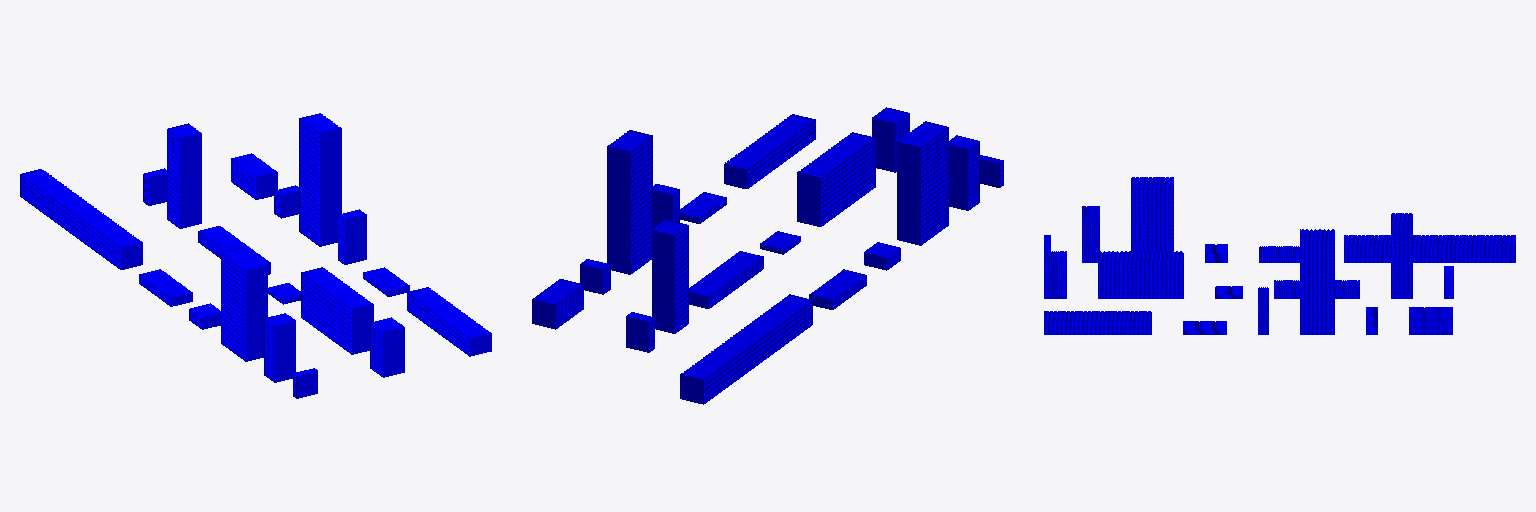
The robot description file, URDF, robot "pipe_warehouse":
<?xml version="1.0" ?>
<!-- =================================================================================== -->
<!-- |    This document was autogenerated by xacro from src/pipe_description/urdf/warehouse.urdf.xacro | -->
<!-- |    EDITING THIS FILE BY HAND IS NOT RECOMMENDED                                 | -->
<!-- =================================================================================== -->
<robot name="pipe_warehouse">
  <!-- Load macros, links, and joints -->
  <material name="blue">
    <color rgba="0 0 1 1"/>
  </material>
  <link name="base_link"/>
  <link name="5x20__05m">
    <visual>
      <origin rpy="1.5708 0 1.5708" xyz="-4.5250 0 0.0"/>
      <geometry>
        <mesh filename="package://pipe_description/meshes/5x20__0.5mStl.STL" scale="0.001 0.001 0.001"/>
      </geometry>
      <material name="blue"/>
    </visual>
    <collision>
      <origin xyz="5.0329 1.4943 5"/>
      <!-- rpy="1.5708 0 1.5708"/-->
      <geometry>
        <box size="10 2.9885 10"/>
      </geometry>
    </collision>
    <inertial>
      <mass value="1.0"/>
      <origin rpy="1.5708 0 1.5708" xyz="-4.5250 0 0.0"/>
      <inertia ixx="0.1" ixy="0.0" ixz="0.0" iyy="0.1" iyz="0.0" izz="0.1"/>
    </inertial>
  </link>
  <link name="8x25_1m">
    <visual>
      <origin rpy="1.5708 0 1.5708" xyz="0.0 0.0 0.0"/>
      <geometry>
        <mesh filename="package://pipe_description/meshes/8x25__1mStl.STL" scale="0.001 0.001 0.001"/>
      </geometry>
      <material name="blue"/>
    </visual>
    <collision>
      <origin xyz="5.0 4.0 12.5"/>
      <!-- rpy="1.5708 0 1.5708"/-->
      <geometry>
        <box size="10 8 25"/>
      </geometry>
    </collision>
    <inertial>
      <mass value="1.0"/>
      <origin rpy="1.5708 0 1.5708" xyz="0.0 0.0 0.0"/>
      <inertia ixx="0.1" ixy="0.0" ixz="0.0" iyy="0.1" iyz="0.0" izz="0.1"/>
    </inertial>
  </link>
  <link name="10x20__2m">
    <visual>
      <origin rpy="1.5708 0 1.5708" xyz="0.0 0.0 0.0"/>
      <geometry>
        <mesh filename="package://pipe_description/meshes/10x20__2mStl.STL" scale="0.001 0.001 0.001"/>
      </geometry>
      <material name="blue"/>
    </visual>
    <collision>
      <origin xyz="5.0 10 20"/>
      <!-- rpy="1.5708 0 1.5708"/-->
      <geometry>
        <box size="10 20 40"/>
      </geometry>
    </collision>
    <inertial>
      <mass value="1.0"/>
      <origin rpy="1.5708 0 1.5708" xyz="0.0 0.0 0.0"/>
      <inertia ixx="0.1" ixy="0.0" ixz="0.0" iyy="0.1" iyz="0.0" izz="0.1"/>
    </inertial>
  </link>
  <link name="20x10__05m">
    <visual>
      <origin rpy="1.5708 0 1.5708" xyz="0.0 0.0 0.0"/>
      <geometry>
        <mesh filename="package://pipe_description/meshes/20x10__0.5mStl.STL" scale="0.001 0.001 0.001"/>
      </geometry>
      <material name="blue"/>
    </visual>
    <collision>
      <origin xyz="5.0 5.2443 2.5"/>
      <!-- rpy="1.5708 0 1.5708"/-->
      <geometry>
        <box size="10 10.4885 5"/>
      </geometry>
    </collision>
    <inertial>
      <mass value="1.0"/>
      <origin rpy="1.5708 0 1.5708" xyz="0.0 0.0 0.0"/>
      <inertia ixx="0.1" ixy="0.0" ixz="0.0" iyy="0.1" iyz="0.0" izz="0.1"/>
    </inertial>
  </link>
  <link name="25x4__1m">
    <visual>
      <origin rpy="1.5708 0 1.5708" xyz="0.0 0 0.0"/>
      <geometry>
        <mesh filename="package://pipe_description/meshes/25x4__1mStl.STL" scale="0.001 0.001 0.001"/>
      </geometry>
      <material name="blue"/>
    </visual>
    <collision>
      <origin xyz="5.0 12.5 2.0"/>
      <!-- rpy="1.5708 0 1.5708"/-->
      <geometry>
        <box size="10 25 4"/>
      </geometry>
    </collision>
    <inertial>
      <mass value="1.0"/>
      <origin rpy="1.5708 0 1.5708" xyz="0.0 0 0.0"/>
      <inertia ixx="0.1" ixy="0.0" ixz="0.0" iyy="0.1" iyz="0.0" izz="0.1"/>
    </inertial>
  </link>
  <link name="40x5__2m">
    <visual>
      <origin rpy="1.5708 0 1.5708" xyz="0.0 0 0.0"/>
      <geometry>
        <mesh filename="package://pipe_description/meshes/40x5__2mStl.STL" scale="0.001 0.001 0.001"/>
      </geometry>
      <material name="blue"/>
    </visual>
    <collision>
      <origin xyz="5.0 40 5"/>
      <!-- rpy="1.5708 0 1.5708"/-->
      <geometry>
        <box size="10 80 10"/>
      </geometry>
    </collision>
    <inertial>
      <mass value="1.0"/>
      <origin rpy="1.5708 0 1.5708" xyz="0.0 0 0.0"/>
      <inertia ixx="0.1" ixy="0.0" ixz="0.0" iyy="0.1" iyz="0.0" izz="0.1"/>
    </inertial>
  </link>
  <link name="10x20__1m">
    <visual>
      <origin rpy="1.5708 0 1.5708" xyz="0.0 0 0.0"/>
      <geometry>
        <mesh filename="package://pipe_description/meshes/10x20__1mStl.STL" scale="0.001 0.001 0.001"/>
      </geometry>
      <material name="blue"/>
    </visual>
    <collision>
      <origin xyz="5.0 5 10"/>
      <!-- rpy="1.5708 0 1.5708"/-->
      <geometry>
        <box size="10 10 20"/>
      </geometry>
    </collision>
    <inertial>
      <mass value="1.0"/>
      <origin rpy="1.5708 0 1.5708" xyz="0.0 0 0.0"/>
      <inertia ixx="0.1" ixy="0.0" ixz="0.0" iyy="0.1" iyz="0.0" izz="0.1"/>
    </inertial>
  </link>
  <link name="20x10__2m">
    <visual>
      <origin rpy="1.5708 0 1.5708" xyz="0.0 0 0.0"/>
      <geometry>
        <mesh filename="package://pipe_description/meshes/20x10__2mStl.STL" scale="0.001 0.001 0.001"/>
      </geometry>
      <material name="blue"/>
    </visual>
    <collision>
      <origin xyz="5.0 20 10"/>
      <!-- rpy="1.5708 0 1.5708"/-->
      <geometry>
        <box size="10 40 20"/>
      </geometry>
    </collision>
    <inertial>
      <mass value="1.0"/>
      <origin rpy="1.5708 0 1.5708" xyz="0.0 0 0.0"/>
      <inertia ixx="0.1" ixy="0.0" ixz="0.0" iyy="0.1" iyz="0.0" izz="0.1"/>
    </inertial>
  </link>
  <link name="25x4__0.5m">
    <visual>
      <origin rpy="1.5708 0 1.5708" xyz="0.0 0 0.0"/>
      <geometry>
        <mesh filename="package://pipe_description/meshes/25x4__0.5mStl.STL" scale="0.001 0.001 0.001"/>
      </geometry>
      <material name="blue"/>
    </visual>
    <collision>
      <origin xyz="5.0 6.4943 1"/>
      <!-- rpy="1.5708 0 1.5708"/-->
      <geometry>
        <box size="10 12.9885 2"/>
      </geometry>
    </collision>
    <inertial>
      <mass value="1.0"/>
      <origin rpy="1.5708 0 1.5708" xyz="0.0 0 0.0"/>
      <inertia ixx="0.1" ixy="0.0" ixz="0.0" iyy="0.1" iyz="0.0" izz="0.1"/>
    </inertial>
  </link>
  <link name="40x5__1m">
    <visual>
      <origin rpy="1.5708 0 1.5708" xyz="0.0 0 0.0"/>
      <geometry>
        <mesh filename="package://pipe_description/meshes/40x5__1mStl.STL" scale="0.001 0.001 0.001"/>
      </geometry>
      <material name="blue"/>
    </visual>
    <collision>
      <origin xyz="5.0 20 2.5"/>
      <!-- rpy="1.5708 0 1.5708"/-->
      <geometry>
        <box size="10 40 5"/>
      </geometry>
    </collision>
    <inertial>
      <mass value="1.0"/>
      <origin rpy="1.5708 0 1.5708" xyz="0.0 0 0.0"/>
      <inertia ixx="0.1" ixy="0.0" ixz="0.0" iyy="0.1" iyz="0.0" izz="0.1"/>
    </inertial>
  </link>
  <link name="5x20__2m">
    <visual>
      <origin rpy="1.5708 0 1.5708" xyz="0.0 0 0.0"/>
      <geometry>
        <mesh filename="package://pipe_description/meshes/5x20__2mStl.STL" scale="0.001 0.001 0.001"/>
      </geometry>
      <material name="blue"/>
    </visual>
    <collision>
      <origin xyz="5.0 5 20"/>
      <!-- rpy="1.5708 0 1.5708"/-->
      <geometry>
        <box size="10 10 40"/>
      </geometry>
    </collision>
    <inertial>
      <mass value="1.0"/>
      <origin rpy="1.5708 0 1.5708" xyz="0.0 0 0.0"/>
      <inertia ixx="0.1" ixy="0.0" ixz="0.0" iyy="0.1" iyz="0.0" izz="0.1"/>
    </inertial>
  </link>
  <link name="8x25__0.5m">
    <visual>
      <origin rpy="1.5708 0 1.5708" xyz="0.0 0 0.0"/>
      <geometry>
        <mesh filename="package://pipe_description/meshes/8x25__0.5mStl.STL" scale="0.001 0.001 0.001"/>
      </geometry>
      <material name="blue"/>
    </visual>
    <collision>
      <origin xyz="5.0 2.2443 6.25"/>
      <!-- rpy="1.5708 0 1.5708"/-->
      <geometry>
        <box size="10 4.4885 12.5"/>
      </geometry>
    </collision>
    <inertial>
      <mass value="1.0"/>
      <origin rpy="1.5708 0 1.5708" xyz="0.0 0 0.0"/>
      <inertia ixx="0.1" ixy="0.0" ixz="0.0" iyy="0.1" iyz="0.0" izz="0.1"/>
    </inertial>
  </link>
  <link name="25x4__2m">
    <visual>
      <origin rpy="1.5708 0 1.5708" xyz="0.0 0 0.0"/>
      <geometry>
        <mesh filename="package://pipe_description/meshes/25x4__2mStl.STL" scale="0.001 0.001 0.001"/>
      </geometry>
      <material name="blue"/>
    </visual>
    <collision>
      <origin xyz="5.0 25.0 4"/>
      <!-- rpy="1.5708 0 1.5708"/-->
      <geometry>
        <box size="10 50 8"/>
      </geometry>
    </collision>
    <inertial>
      <mass value="1.0"/>
      <origin rpy="1.5708 0 1.5708" xyz="0.0 0 0.0"/>
      <inertia ixx="0.1" ixy="0.0" ixz="0.0" iyy="0.1" iyz="0.0" izz="0.1"/>
    </inertial>
  </link>
  <link name="40x5__0.5m">
    <visual>
      <origin rpy="1.5708 0 1.5708" xyz="0.0 0 0.0"/>
      <geometry>
        <mesh filename="package://pipe_description/meshes/40x5__0.5mStl.STL" scale="0.001 0.001 0.001"/>
      </geometry>
      <material name="blue"/>
    </visual>
    <collision>
      <origin xyz="5.0 10.2443 1.25"/>
      <!-- rpy="1.5708 0 1.5708"/-->
      <geometry>
        <box size="10 20.4885 2.5"/>
      </geometry>
    </collision>
    <inertial>
      <mass value="1.0"/>
      <origin rpy="1.5708 0 1.5708" xyz="0.0 0 0.0"/>
      <inertia ixx="0.1" ixy="0.0" ixz="0.0" iyy="0.1" iyz="0.0" izz="0.1"/>
    </inertial>
  </link>
  <link name="5x20__1m">
    <visual>
      <origin rpy="1.5708 0 1.5708" xyz="0.0 0 0.0"/>
      <geometry>
        <mesh filename="package://pipe_description/meshes/5x20__1mStl.STL" scale="0.001 0.001 0.001"/>
      </geometry>
      <material name="blue"/>
    </visual>
    <collision>
      <origin xyz="5.0 2.5 10"/>
      <!-- rpy="1.5708 0 1.5708"/-->
      <geometry>
        <box size="10 5 20"/>
      </geometry>
    </collision>
    <inertial>
      <mass value="1.0"/>
      <origin rpy="1.5708 0 1.5708" xyz="0.0 0 0.0"/>
      <inertia ixx="0.1" ixy="0.0" ixz="0.0" iyy="0.1" iyz="0.0" izz="0.1"/>
    </inertial>
  </link>
  <link name="8x25__2m">
    <visual>
      <origin rpy="1.5708 0 1.5708" xyz="0.0 0 0.0"/>
      <geometry>
        <mesh filename="package://pipe_description/meshes/8x25__2mStl.STL" scale="0.001 0.001 0.001"/>
      </geometry>
      <material name="blue"/>
    </visual>
    <collision>
      <origin xyz="5.0 8 25"/>
      <!-- rpy="1.5708 0 1.5708"/-->
      <geometry>
        <box size="10 16 50"/>
      </geometry>
    </collision>
    <inertial>
      <mass value="1.0"/>
      <origin rpy="1.5708 0 1.5708" xyz="0.0 0 0.0"/>
      <inertia ixx="0.1" ixy="0.0" ixz="0.0" iyy="0.1" iyz="0.0" izz="0.1"/>
    </inertial>
  </link>
  <link name="10x20__0.5m">
    <visual>
      <origin rpy="1.5708 0 1.5708" xyz="0.0 0 0.0"/>
      <geometry>
        <mesh filename="package://pipe_description/meshes/10x20__0.5mStl.STL" scale="0.001 0.001 0.001"/>
      </geometry>
      <material name="blue"/>
    </visual>
    <collision>
      <origin xyz="5.0 2.7443 5"/>
      <!-- rpy="1.5708 0 1.5708"/-->
      <geometry>
        <box size="10 5.4885 10"/>
      </geometry>
    </collision>
    <inertial>
      <mass value="1.0"/>
      <origin rpy="1.5708 0 1.5708" xyz="0.0 0 0.0"/>
      <inertia ixx="0.1" ixy="0.0" ixz="0.0" iyy="0.1" iyz="0.0" izz="0.1"/>
    </inertial>
  </link>
  <link name="20x10__1m">
    <visual>
      <origin rpy="1.5708 0 1.5708" xyz="0.0 0 0.0"/>
      <geometry>
        <mesh filename="package://pipe_description/meshes/20x10__1mStl.STL" scale="0.001 0.001 0.001"/>
      </geometry>
      <material name="blue"/>
    </visual>
    <collision>
      <origin xyz="5.0 10 5"/>
      <!-- rpy="1.5708 0 1.5708"/-->
      <geometry>
        <box size="10 20 10"/>
      </geometry>
    </collision>
    <inertial>
      <mass value="1.0"/>
      <origin rpy="1.5708 0 1.5708" xyz="0.0 0 0.0"/>
      <inertia ixx="0.1" ixy="0.0" ixz="0.0" iyy="0.1" iyz="0.0" izz="0.1"/>
    </inertial>
  </link>
  <!-- 5x20__05m	8x25_1m	10x20__2m	20x10__05m	25x4__1m	40x5__2m -->
  <joint name="base_link_to_5x20__05m" type="fixed">
    <origin rpy="0 0 0" xyz="0.0 0.0 0.0"/>
    <parent link="base_link"/>
    <child link="5x20__05m"/>
  </joint>
  <joint name="5x20__05m_to_8x25_1m" type="fixed">
    <origin rpy="0 0 0" xyz="0.0 17.5 0.0"/>
    <parent link="5x20__05m"/>
    <child link="8x25_1m"/>
  </joint>
  <joint name="8x25_1m_to_10x20__2m" type="fixed">
    <origin rpy="0 0 0" xyz="0.0 23.0 0"/>
    <parent link="8x25_1m"/>
    <child link="10x20__2m"/>
  </joint>
  <joint name="10x20__2m_to_20x10__05m" type="fixed">
    <origin rpy="0 0 0" xyz="0.0 35 0.0"/>
    <parent link="10x20__2m"/>
    <child link="20x10__05m"/>
  </joint>
  <joint name="20x10__05m_to_25x4__1m" type="fixed">
    <origin rpy="0 0 0" xyz="0.0 25 0.0"/>
    <parent link="20x10__05m"/>
    <child link="25x4__1m"/>
  </joint>
  <joint name="25x4__1m_to_40x5__2m" type="fixed">
    <origin rpy="0 0 0" xyz="0.0 40 0.0"/>
    <parent link="25x4__1m"/>
    <child link="40x5__2m"/>
  </joint>
  <!-- 10x20__1m	20x10__2m	25x4__0.5m	40x5__1m	5x20__2m	8x25__0.5m -->
  <joint name="base_link_to_10x20__1m" type="fixed">
    <origin rpy="0 0 0" xyz="40.0 0.0 0.0"/>
    <parent link="base_link"/>
    <child link="10x20__1m"/>
  </joint>
  <joint name="10x20__1m_to_20x10__2m" type="fixed">
    <origin rpy="0 0 0" xyz="0.0 25.0 0.0"/>
    <parent link="10x20__1m"/>
    <child link="20x10__2m"/>
  </joint>
  <joint name="20x10__2m_to_25x4__0.5m" type="fixed">
    <origin rpy="0 0 0" xyz="0.0 55 0.0"/>
    <parent link="20x10__2m"/>
    <child link="25x4__0.5m"/>
  </joint>
  <joint name="25x4__0.5m_to_40x5__1m" type="fixed">
    <origin rpy="0 0 0" xyz="0.0 27.5 0.0"/>
    <parent link="25x4__0.5m"/>
    <child link="40x5__1m"/>
  </joint>
  <joint name="40x5__1m_to_5x20__2m" type="fixed">
    <origin rpy="0 0 0" xyz="0.0 55 0.0"/>
    <parent link="40x5__1m"/>
    <child link="5x20__2m"/>
  </joint>
  <joint name="5x20__2m_to_8x25__0.5m" type="fixed">
    <origin rpy="0 0 0" xyz="0.0 25.0 0.0"/>
    <parent link="5x20__2m"/>
    <child link="8x25__0.5m"/>
  </joint>
  <joint name="10x20__1m_to_25x4__2m" type="fixed">
    <origin rpy="0 0 0" xyz="40.0 0.0 0.0"/>
    <parent link="10x20__1m"/>
    <child link="25x4__2m"/>
  </joint>
  <joint name="25x4__2m_to_40x5__0.5m" type="fixed">
    <origin rpy="0 0 0" xyz="0.0 65.0 0.0"/>
    <parent link="25x4__2m"/>
    <child link="40x5__0.5m"/>
  </joint>
  <joint name="40x5__0.5m_to_5x20__1m" type="fixed">
    <origin rpy="0 0 0" xyz="0.0 35 0.0"/>
    <parent link="40x5__0.5m"/>
    <child link="5x20__1m"/>
  </joint>
  <joint name="5x20__1m_to_8x25__2m" type="fixed">
    <origin rpy="0 0 0" xyz="0.0 20 0.0"/>
    <parent link="5x20__1m"/>
    <child link="8x25__2m"/>
  </joint>
  <joint name="8x25__2m_to_10x20__0.5m" type="fixed">
    <origin rpy="0 0 0" xyz="0.0 31 0.0"/>
    <parent link="8x25__2m"/>
    <child link="10x20__0.5m"/>
  </joint>
  <joint name="10x20__0.5m_to_20x10__1m" type="fixed">
    <origin rpy="0 0 0" xyz="0.0 20 0.0"/>
    <parent link="10x20__0.5m"/>
    <child link="20x10__1m"/>
  </joint>
</robot>

--- Render facts (derived) ---
Views: 3 orthographic renders of the robot side by side, from view 1: azimuth 30°, elevation 25°; view 2: azimuth 150°, elevation 25°; view 3: azimuth 270°, elevation 25°.
Robot: pipe_warehouse — 19 links, 18 joints (18 fixed); root link base_link; default pose: all joints at 0.
Visible links, largest first — view 1: 8x25__2m, 40x5__2m, 10x20__2m, 20x10__2m, 5x20__2m, 25x4__2m, 8x25_1m, 10x20__1m, 20x10__1m, 5x20__1m, 25x4__1m, 40x5__1m (+5 smaller); view 2: 8x25__2m, 40x5__2m, 10x20__2m, 20x10__2m, 5x20__2m, 25x4__2m, 40x5__1m, 8x25_1m, 20x10__1m, 10x20__1m, 25x4__1m, 8x25__0.5m (+6 smaller); view 3: 40x5__2m, 20x10__2m, 8x25__2m, 10x20__2m, 25x4__2m, 5x20__2m, 20x10__1m, 10x20__1m, 8x25_1m, 40x5__1m, 25x4__1m, 40x5__0.5m.
Link boxes in pixels (x1=…): 8x25__2m: x1=299, y1=113, x2=341, y2=246; 40x5__2m: x1=20, y1=169, x2=142, y2=269; 10x20__2m: x1=221, y1=247, x2=267, y2=361; 20x10__2m: x1=301, y1=267, x2=373, y2=354; 5x20__2m: x1=167, y1=123, x2=201, y2=228; 25x4__2m: x1=407, y1=287, x2=491, y2=356; 8x25_1m: x1=264, y1=313, x2=295, y2=382; 10x20__1m: x1=370, y1=317, x2=404, y2=377; 20x10__1m: x1=231, y1=153, x2=277, y2=199; 5x20__1m: x1=338, y1=209, x2=366, y2=264; 25x4__1m: x1=139, y1=269, x2=192, y2=306; 40x5__1m: x1=198, y1=226, x2=270, y2=274; 8x25__2m: x1=607, y1=130, x2=652, y2=274; 40x5__2m: x1=680, y1=294, x2=812, y2=404; 10x20__2m: x1=897, y1=121, x2=948, y2=245; 20x10__2m: x1=797, y1=132, x2=875, y2=226; 5x20__2m: x1=652, y1=219, x2=688, y2=333; 25x4__2m: x1=724, y1=114, x2=815, y2=188; 40x5__1m: x1=689, y1=251, x2=763, y2=308; 8x25_1m: x1=949, y1=135, x2=979, y2=210; 20x10__1m: x1=532, y1=279, x2=583, y2=329; 10x20__1m: x1=872, y1=107, x2=909, y2=172; 25x4__1m: x1=809, y1=269, x2=866, y2=309; 8x25__0.5m: x1=626, y1=312, x2=654, y2=352; 40x5__2m: x1=1344, y1=235, x2=1515, y2=262; 20x10__2m: x1=1098, y1=251, x2=1183, y2=298; 8x25__2m: x1=1300, y1=229, x2=1334, y2=334; 10x20__2m: x1=1131, y1=177, x2=1173, y2=252; 25x4__2m: x1=1044, y1=311, x2=1151, y2=334; 5x20__2m: x1=1391, y1=213, x2=1412, y2=298; 20x10__1m: x1=1409, y1=307, x2=1452, y2=334; 10x20__1m: x1=1044, y1=251, x2=1066, y2=298; 8x25_1m: x1=1082, y1=206, x2=1099, y2=262; 40x5__1m: x1=1274, y1=280, x2=1359, y2=298; 25x4__1m: x1=1259, y1=246, x2=1299, y2=262; 40x5__0.5m: x1=1183, y1=321, x2=1226, y2=334.
Size in the robot's own frame: 90.05 by 221 by 50.2 metres.
Meshes: 18 distinct files referenced, 18 mesh visuals loaded (18 binary STL).